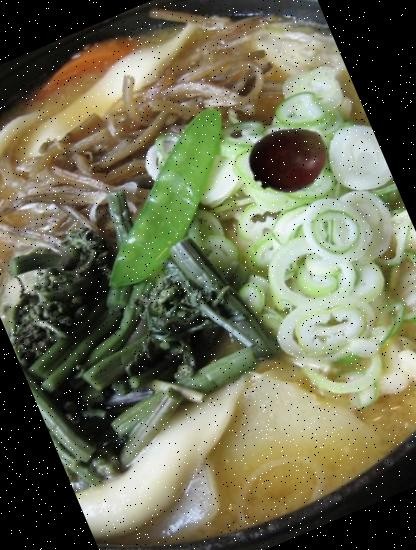Mango: (236, 107, 340, 211)
